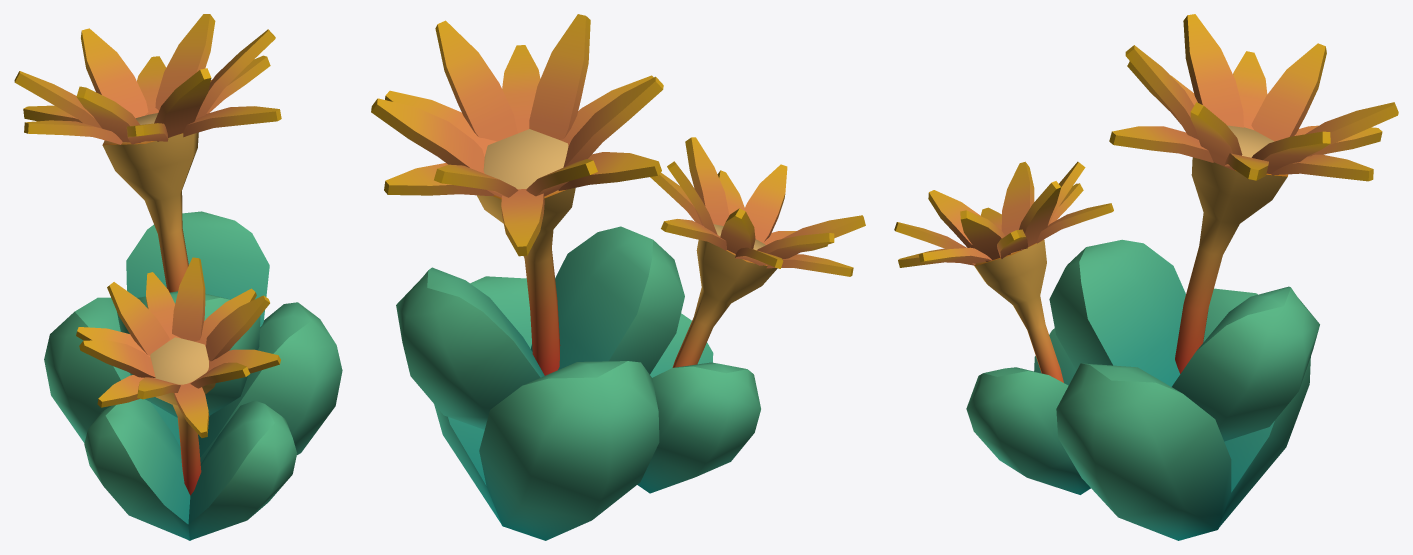
3 views of the same model, side by side, from view 1: azimuth 30°, elevation 25°; view 2: azimuth 150°, elevation 25°; view 3: azimuth 270°, elevation 25° (orthographic). The views are drawn at different scales.
Parts seen in each view (by area): view 1: LOD 0_2706289654712857463_28e75797c10217042830cd75c6d801cd; view 2: LOD 0_2706289654712857463_28e75797c10217042830cd75c6d801cd; view 3: LOD 0_2706289654712857463_28e75797c10217042830cd75c6d801cd.
Boxes of the visible parts, left/top/right/bottom form: LOD 0_2706289654712857463_28e75797c10217042830cd75c6d801cd: left=14, top=14, right=342, bottom=540; LOD 0_2706289654712857463_28e75797c10217042830cd75c6d801cd: left=371, top=14, right=865, bottom=540; LOD 0_2706289654712857463_28e75797c10217042830cd75c6d801cd: left=894, top=14, right=1398, bottom=540.
Size of the model in its own units: 0.6256 by 0.8871 by 0.838.
